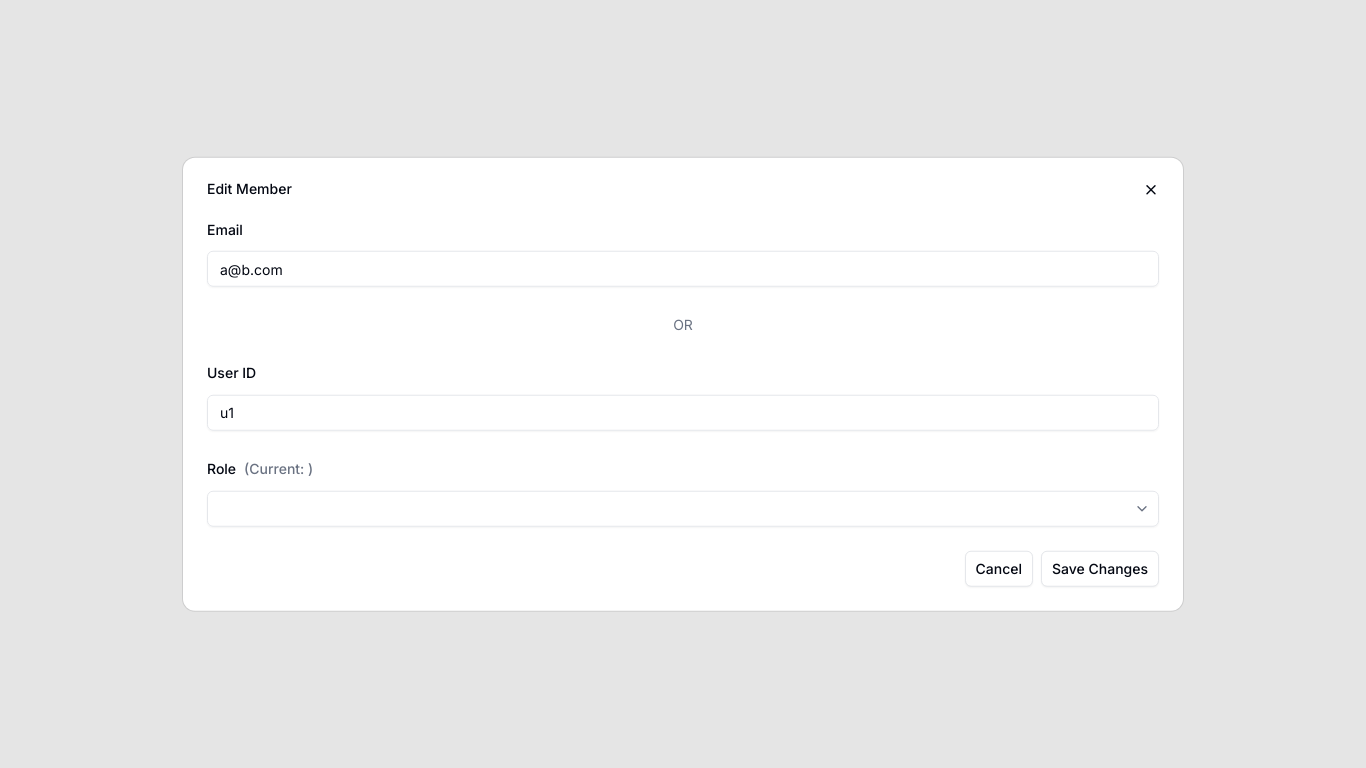
EditMembership submit payload › blocks submission when no role is selected
Click the button "Save Changes" at (1100, 568), box left=1041, top=550, right=1159, bottom=586
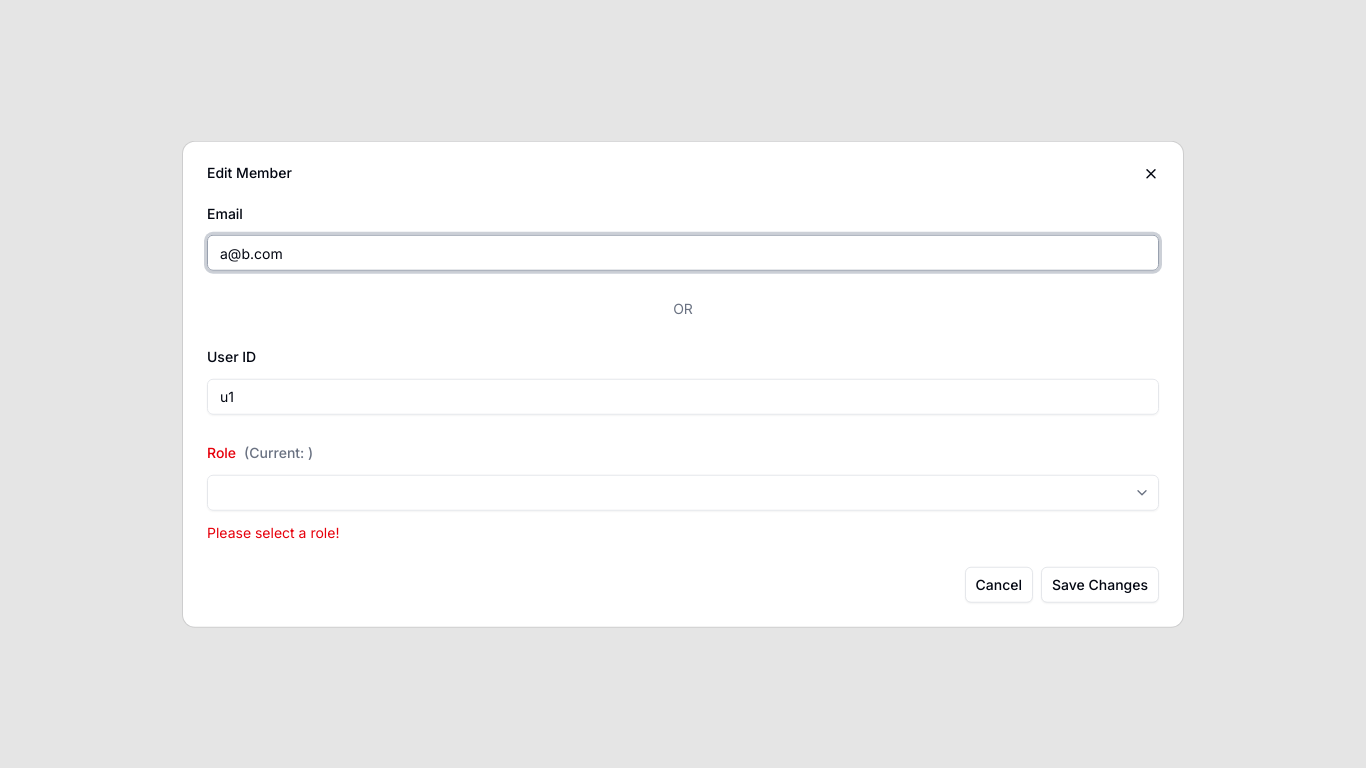
Result: the text "Please select a role!" is shown at left=207, top=523, right=339, bottom=540
